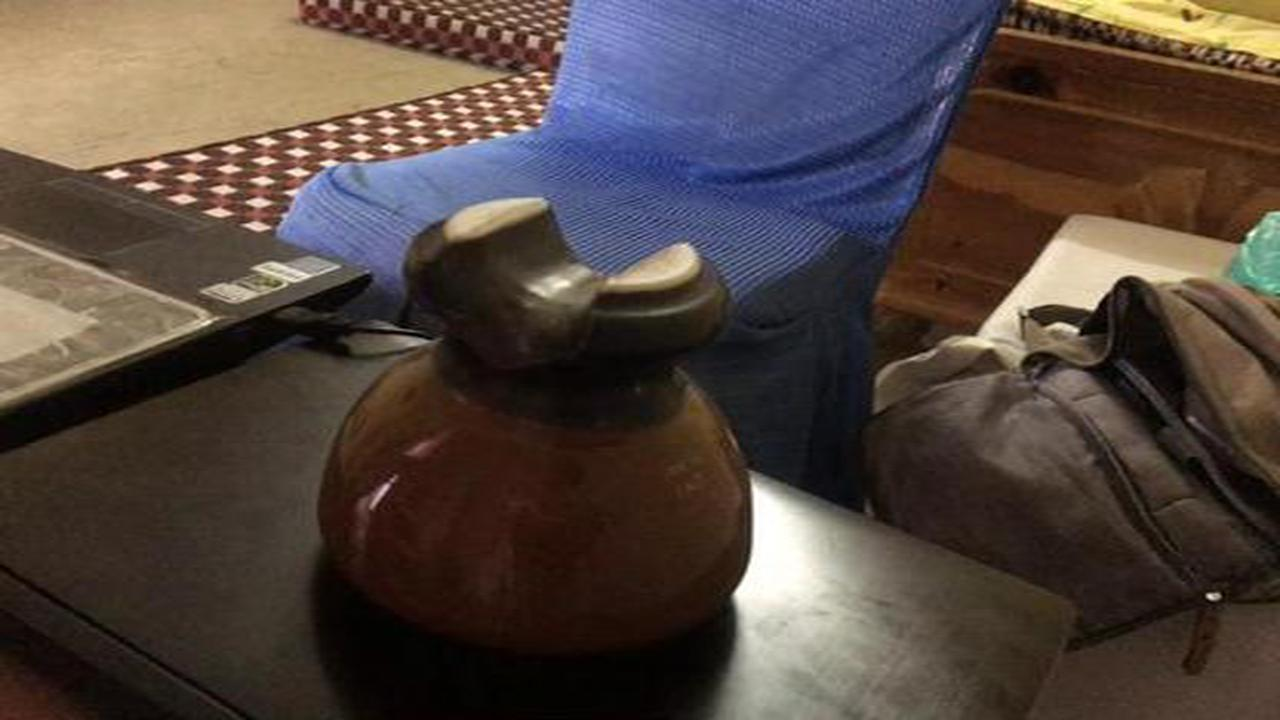insulator_pin: (317, 177, 767, 672)
